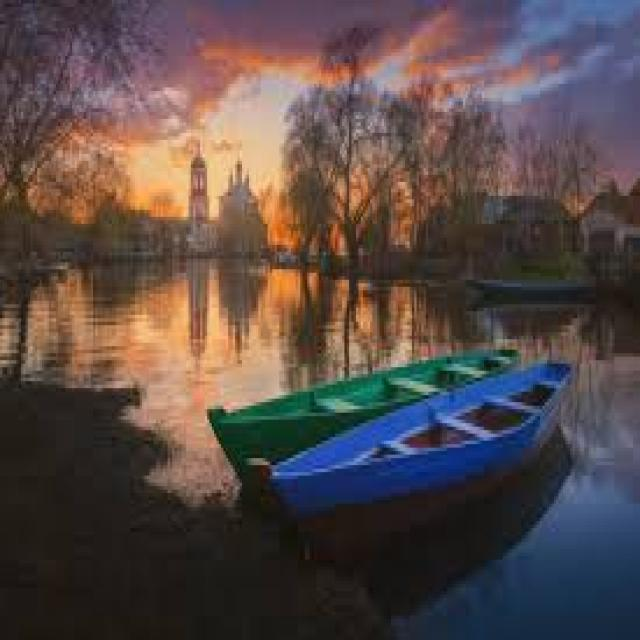ship2: (268, 360, 574, 512)
